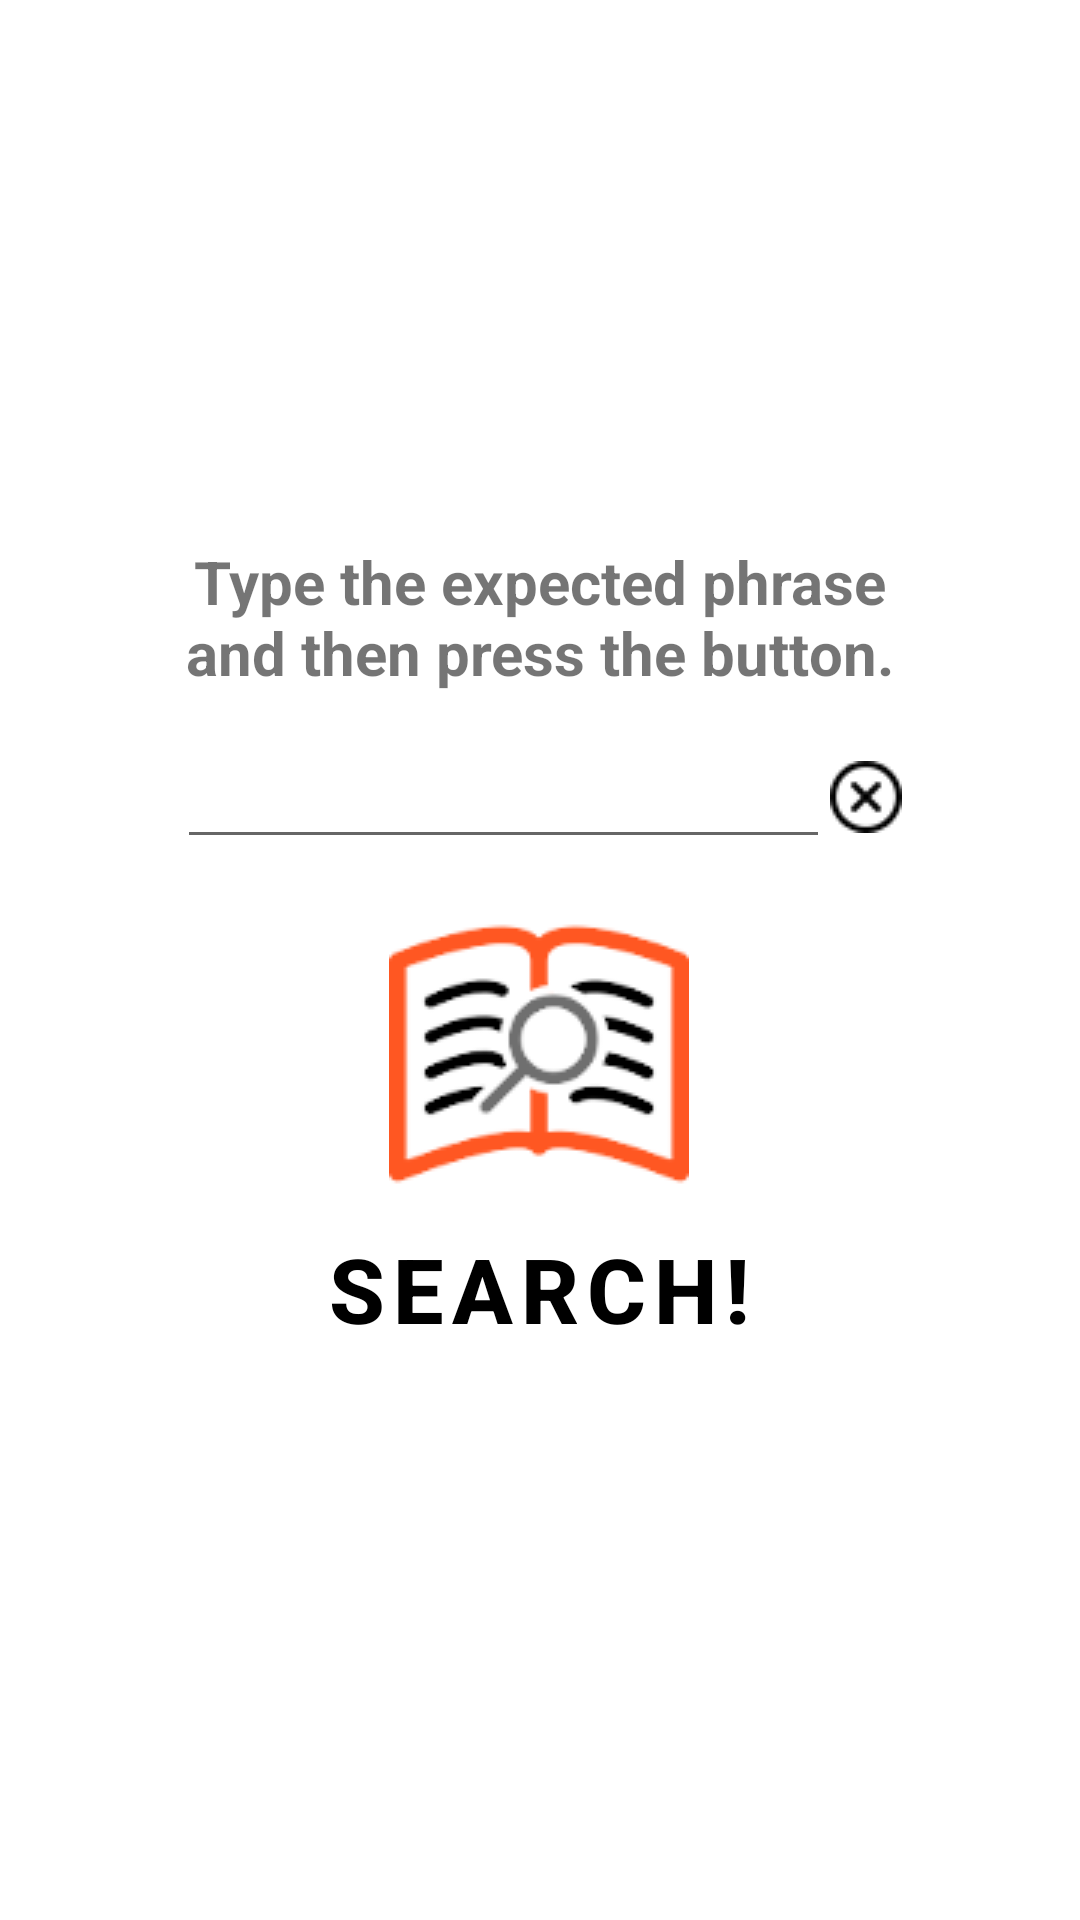

Icon bounding boxes for this 1080px×1920px phone screenshot, format [x1, y1, x2, y2]:
delete: [830, 761, 902, 833]
